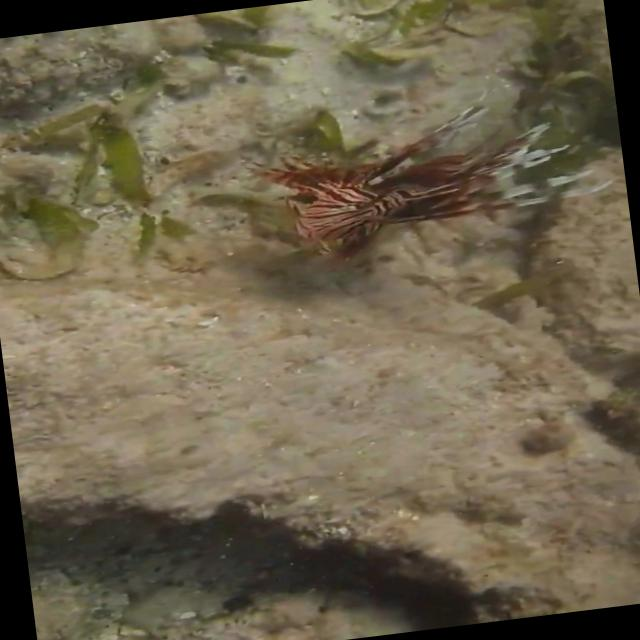Aslan Baligi: (237, 80, 618, 270)
